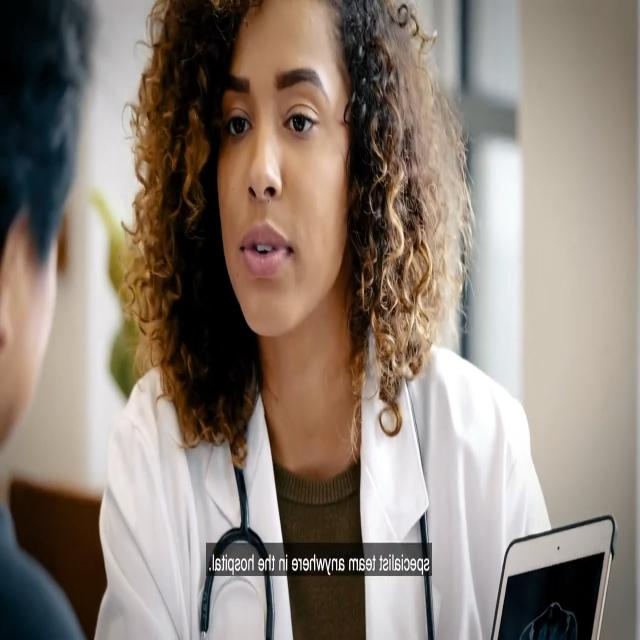Doctor: (122, 0, 456, 470)
